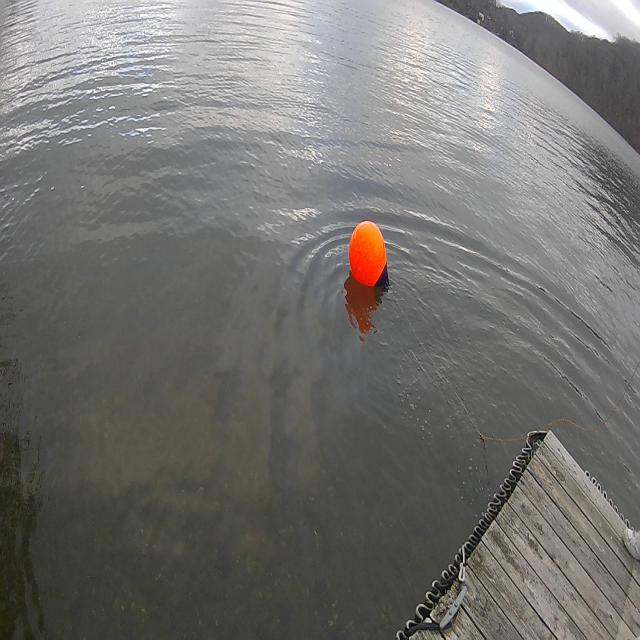Buoy: (347, 220, 393, 300)
